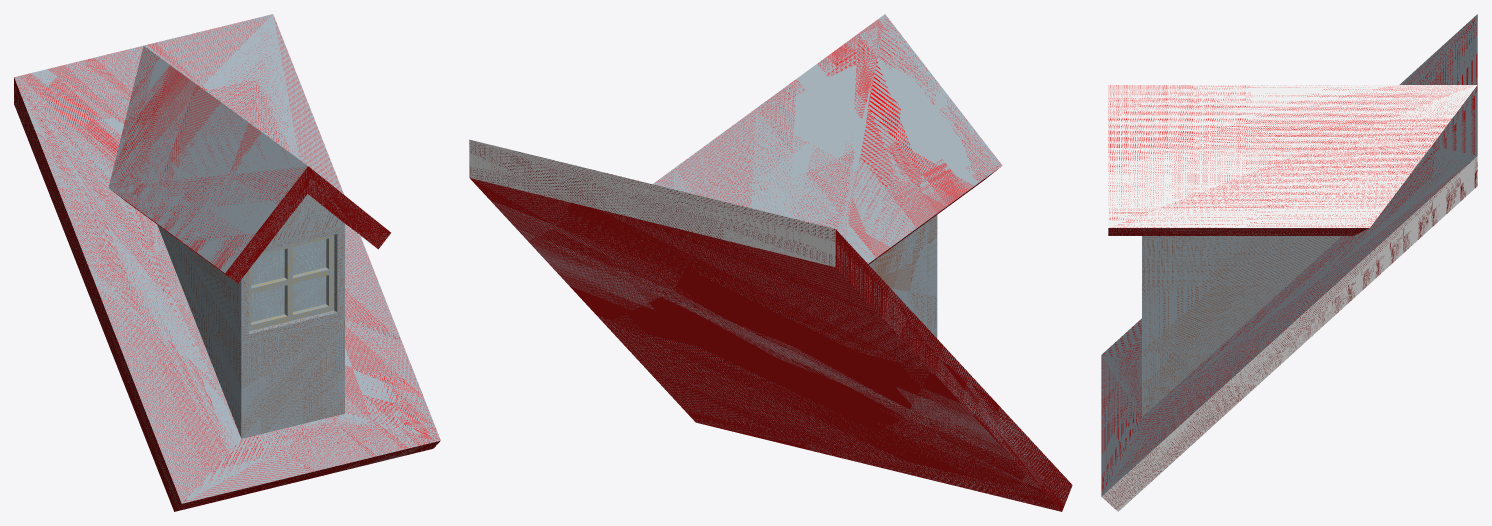
File: roof_dormer2.fbx
3 renders of one model, left to right at view 1: azimuth 30°, elevation 25°; view 2: azimuth 150°, elevation 25°; view 3: azimuth 270°, elevation 25°, orthographic. The views are drawn at different scales.
Parts seen in each view (by area): view 1: Mesh1_sloped_roof_5_1 Model; view 2: Mesh1_sloped_roof_5_1 Model; view 3: Mesh1_sloped_roof_5_1 Model.
Boxes of the visible parts, <box> form: Mesh1_sloped_roof_5_1 Model: <box>14,14,440,511</box>; Mesh1_sloped_roof_5_1 Model: <box>469,14,1072,511</box>; Mesh1_sloped_roof_5_1 Model: <box>1101,14,1477,511</box>.
Bounding box in the file's own units: 1 × 1.17 × 1.12.
